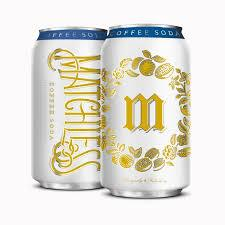Aluminum can: (99, 22, 191, 200), (23, 19, 110, 202)
